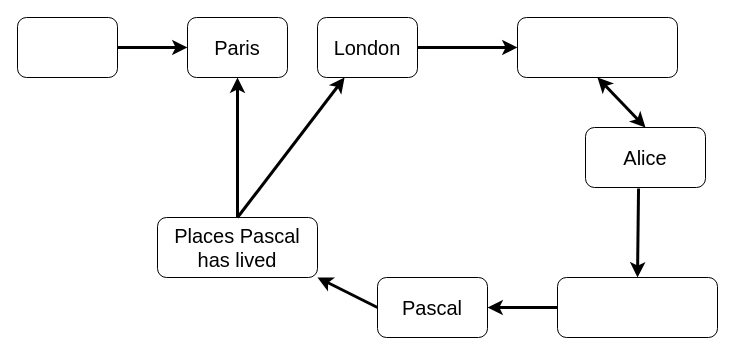
This 735x355 diagram has some shape labels left out. Here are the shapes that lost their labels. From the top down, the centre of each, then its label:
(67,47): France
(597,47): The London Underground
(637,307): The Guardian
